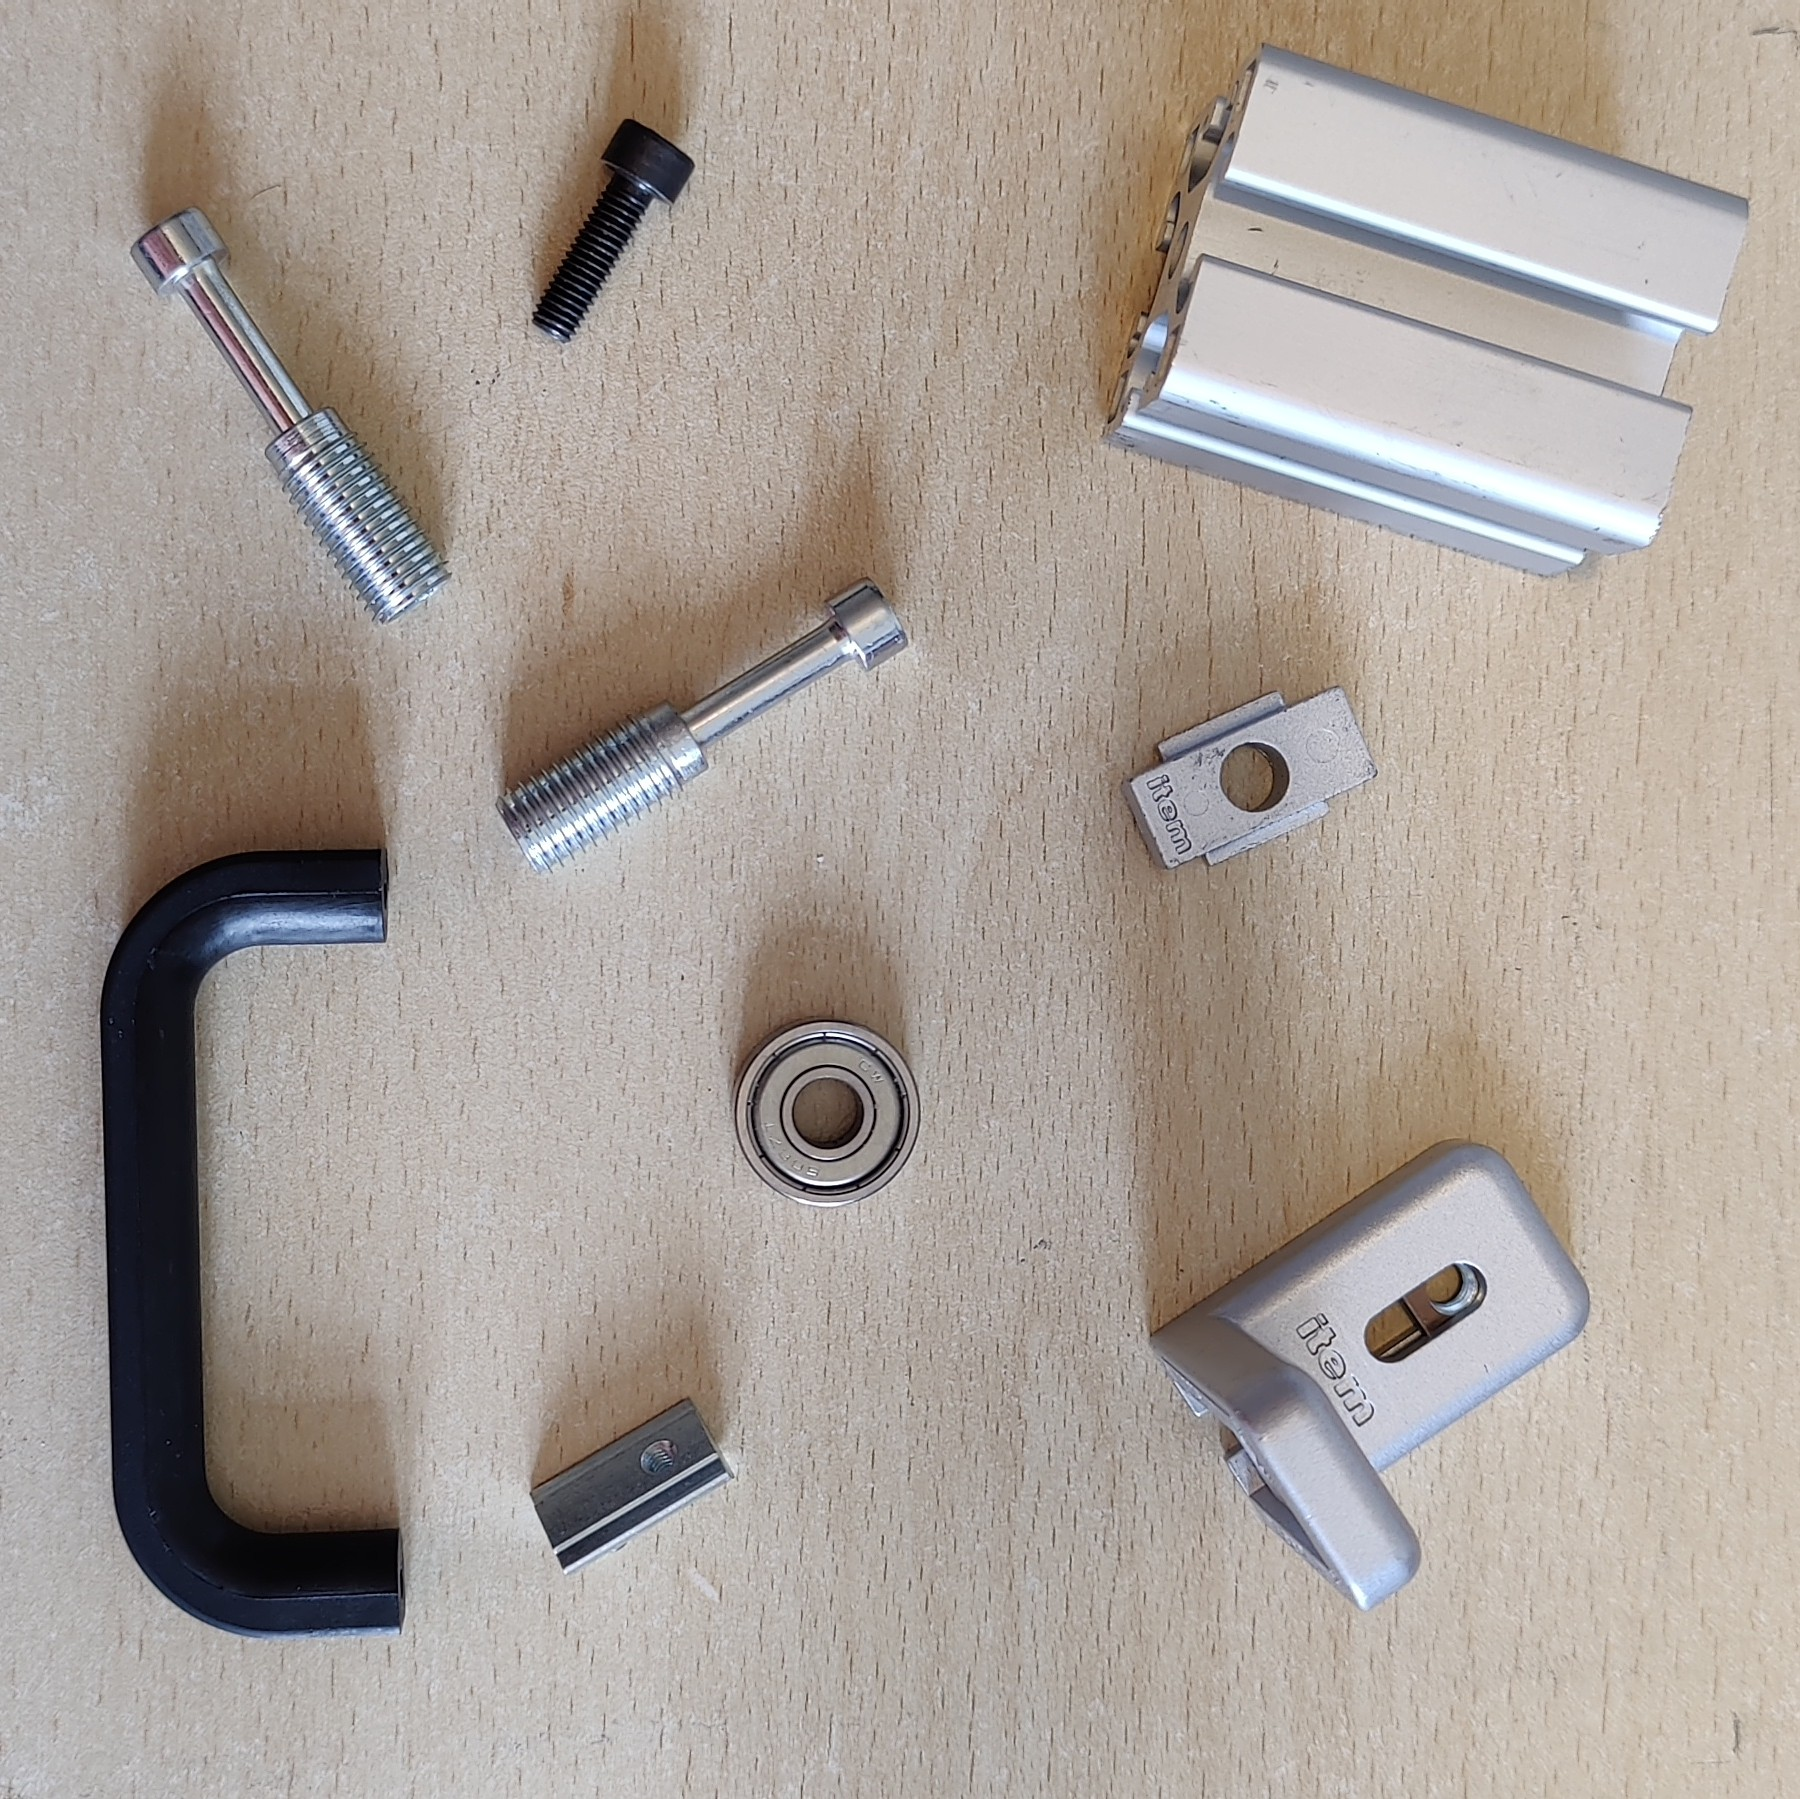Aluminium Extension: (1097, 33, 1752, 582)
Ball Bearing: (731, 1013, 922, 1211)
Multiwinkel: (1145, 1135, 1594, 1614)
Pull Handle: (96, 840, 408, 1644)
Shoulder Socket Head Cap Screw: (125, 199, 456, 628), (492, 572, 912, 881)
Socket Head Cap Screw: (524, 114, 700, 348)
T Nut Square: (1118, 680, 1382, 876)
T Spring Nut: (529, 1390, 734, 1580)
